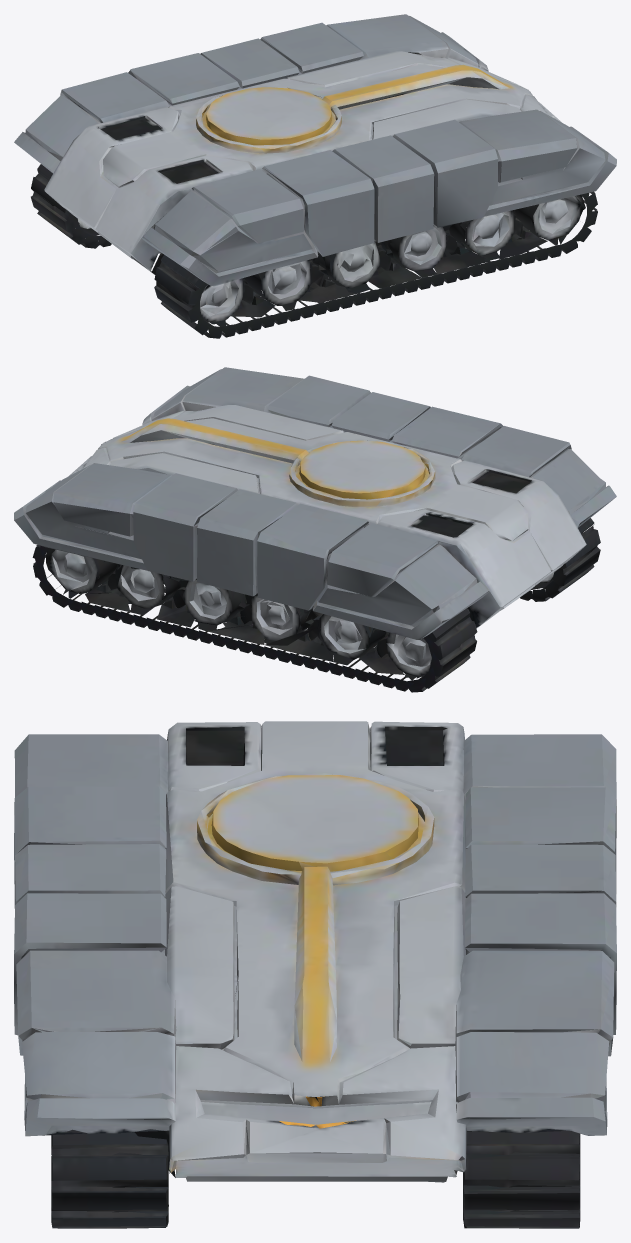
File: chassis-vanguard-2-light.glb
3 views of the same model, one above another, from view 1: azimuth 30°, elevation 25°; view 2: azimuth 150°, elevation 25°; view 3: azimuth 270°, elevation 25° (orthographic). The views are drawn at different scales.
Parts seen in each view (by area): view 1: chassis-vanguard-2-light; view 2: chassis-vanguard-2-light; view 3: chassis-vanguard-2-light.
Boxes of the visible parts, <box> form: chassis-vanguard-2-light: <box>14,14,616,338</box>; chassis-vanguard-2-light: <box>14,367,616,692</box>; chassis-vanguard-2-light: <box>14,721,616,1228</box>.
Size of the model in its own units: 2.7 by 0.7723 by 1.83.
Materials: 1 (1 with a texture image).
